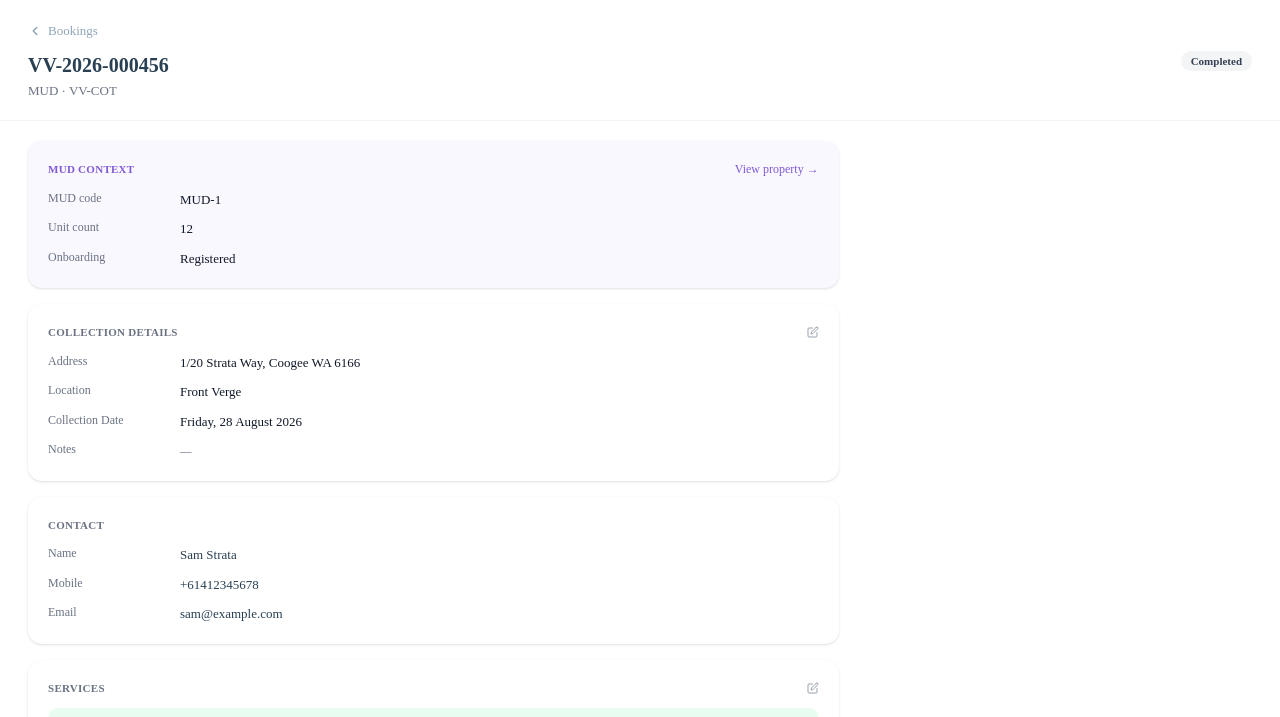
Test: MUD collected-count editor — interaction › surfaces a stale-token conflict as an error
Click the button named "Edit collected counts" at (813,688), box left=807, top=682, right=819, bottom=694
(page scrolled)
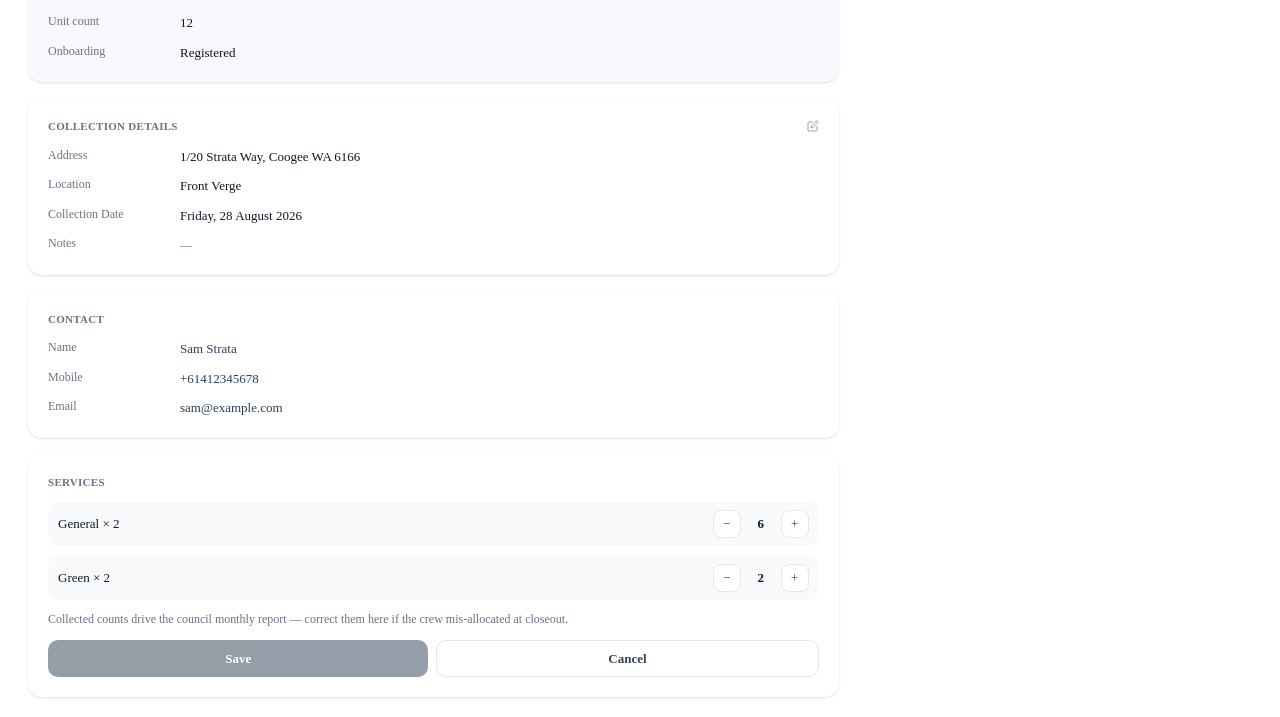
Click the button named "Decrease General collected count" at (727,524), box left=713, top=510, right=741, bottom=538
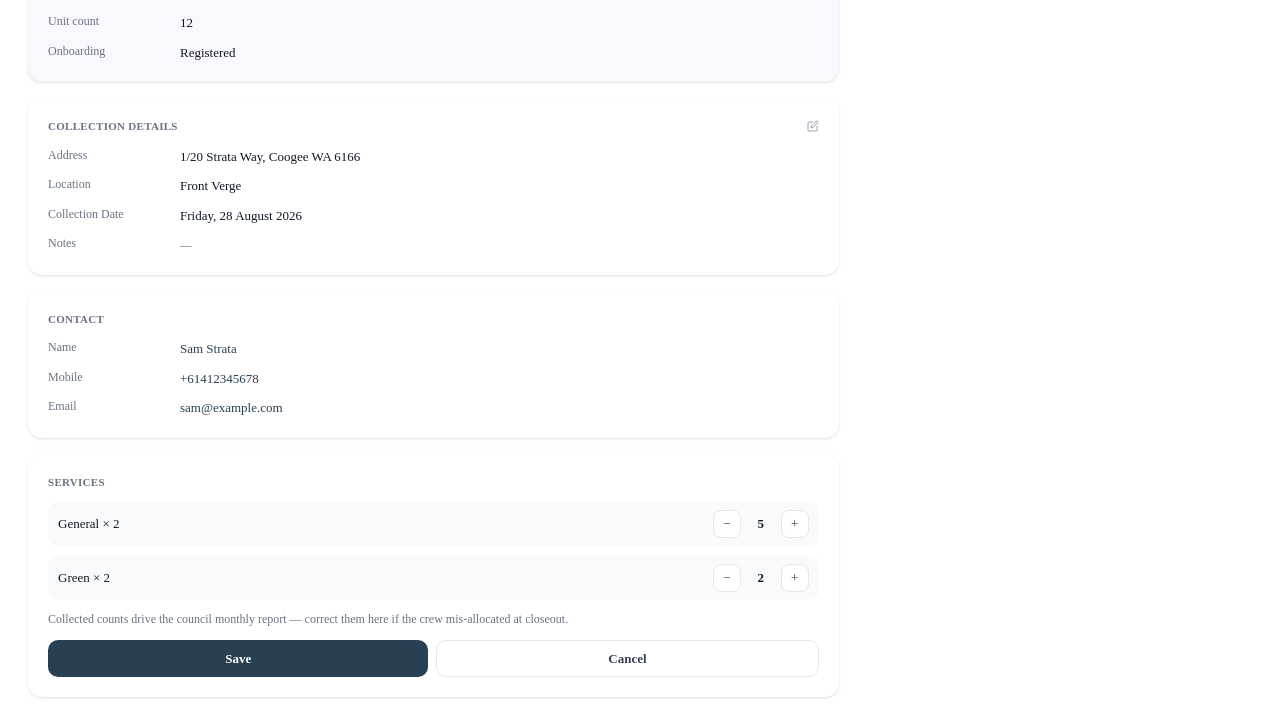
Click the button "Save" at (238,658), box left=48, top=640, right=428, bottom=677
(page scrolled)
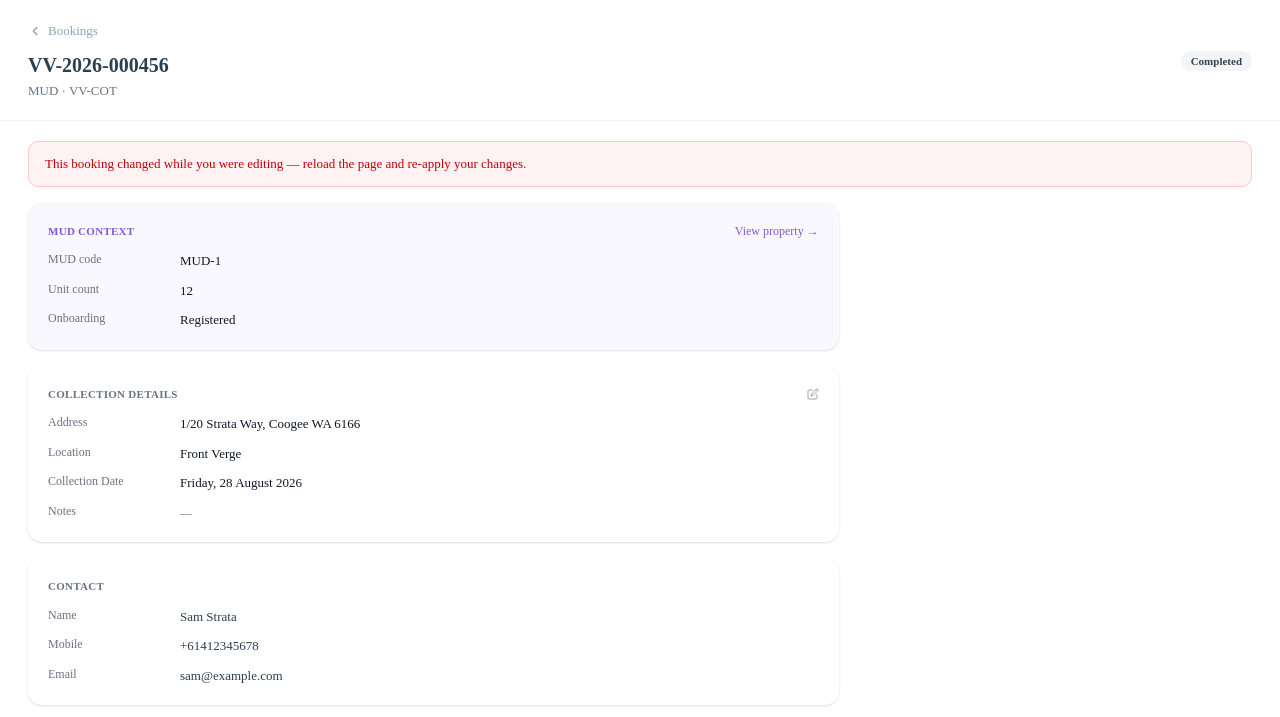
Now the text "changed while you were editing" is shown, box left=45, top=156, right=526, bottom=171
